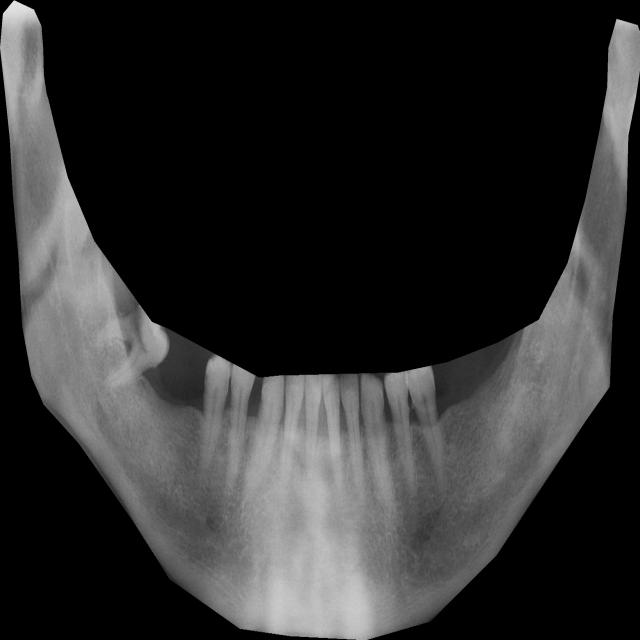mandibula: (0, 0, 640, 640)
